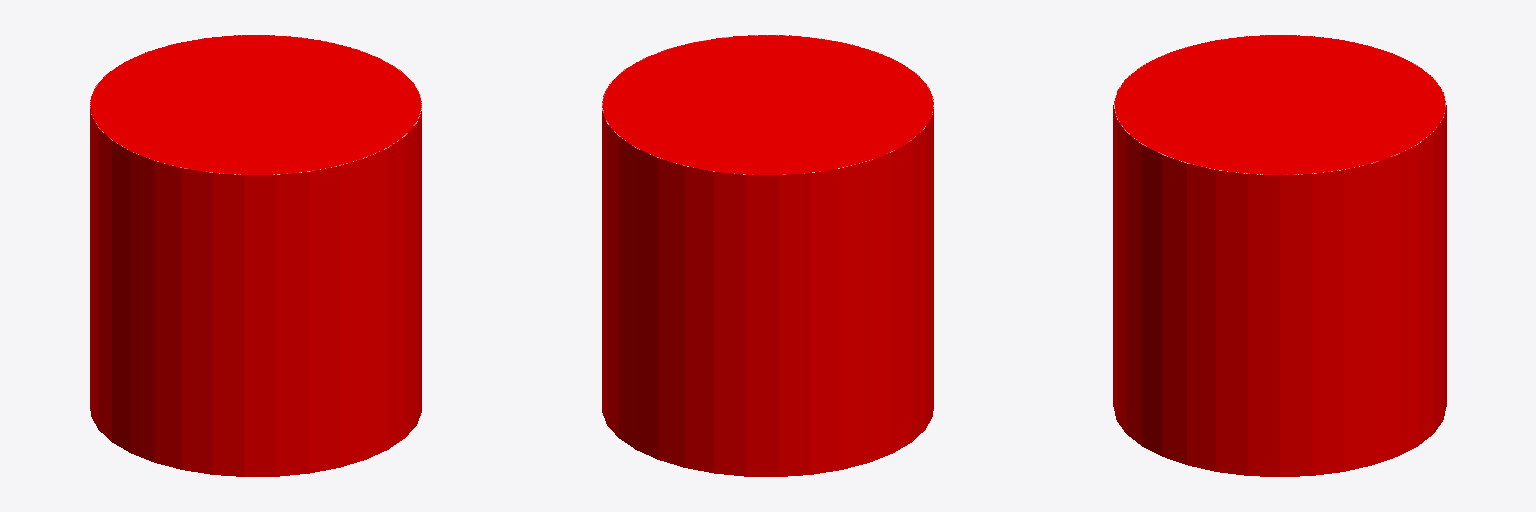
3 renders of one model, left to right at view 1: azimuth 30°, elevation 25°; view 2: azimuth 150°, elevation 25°; view 3: azimuth 270°, elevation 25°, orthographic.
Parts seen in each view (by area): view 1: Cylinder; view 2: Cylinder; view 3: Cylinder.
Boxes of the visible parts, box(x1,y1,x2,y2) form: Cylinder: box(90, 35, 421, 476); Cylinder: box(602, 35, 933, 476); Cylinder: box(1113, 35, 1446, 476).
Size of the model in its own units: 1 by 1 by 1.
1 materials, 1 textured.